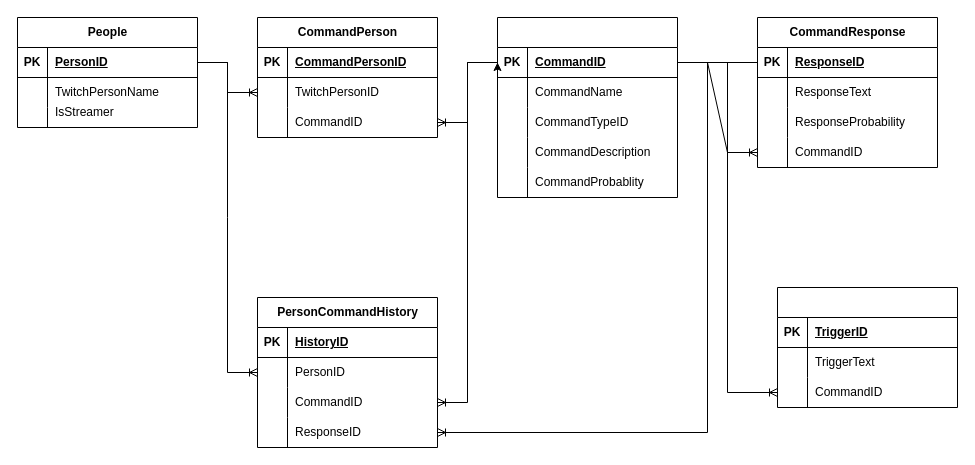
This 975x465 diagram has some shape labels left out. Here are the shapes that lost their labels. From the top down, the box of each, then its label:
(496, 16, 678, 198): Commands
(776, 286, 958, 408): CommandTrigger
